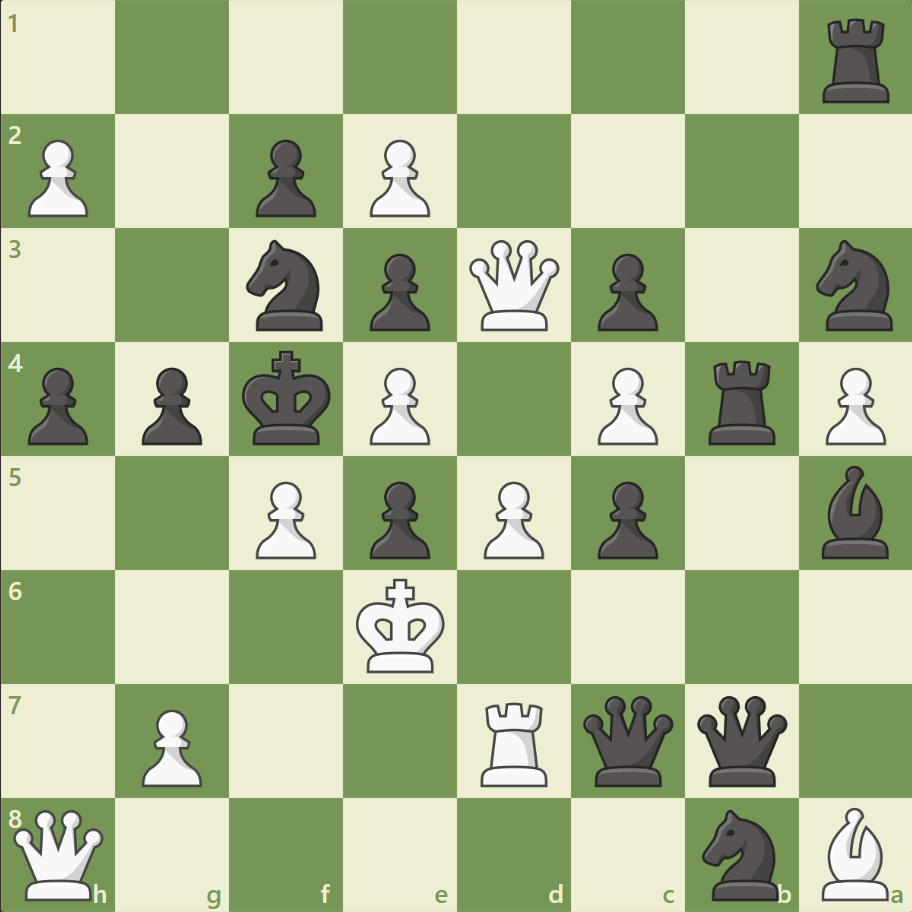B: (812, 801, 896, 904)
K: (351, 571, 451, 679)
P: (133, 700, 208, 791), (474, 473, 549, 564), (247, 473, 322, 564), (20, 132, 95, 223), (815, 359, 889, 450), (588, 359, 662, 450), (361, 359, 435, 450), (361, 132, 435, 223)
Q: (10, 804, 109, 903), (464, 236, 563, 335)
R: (473, 693, 556, 790)
b: (812, 460, 896, 563)
k: (238, 344, 338, 452)
n: (806, 234, 903, 337), (238, 234, 335, 337), (692, 802, 789, 904)
p: (133, 359, 208, 450), (20, 359, 95, 450), (247, 132, 322, 223), (588, 473, 662, 564), (361, 473, 435, 564), (588, 246, 662, 337), (361, 246, 435, 337)
q: (691, 690, 790, 789), (578, 690, 677, 789)
r: (700, 352, 783, 449), (814, 12, 897, 109)
